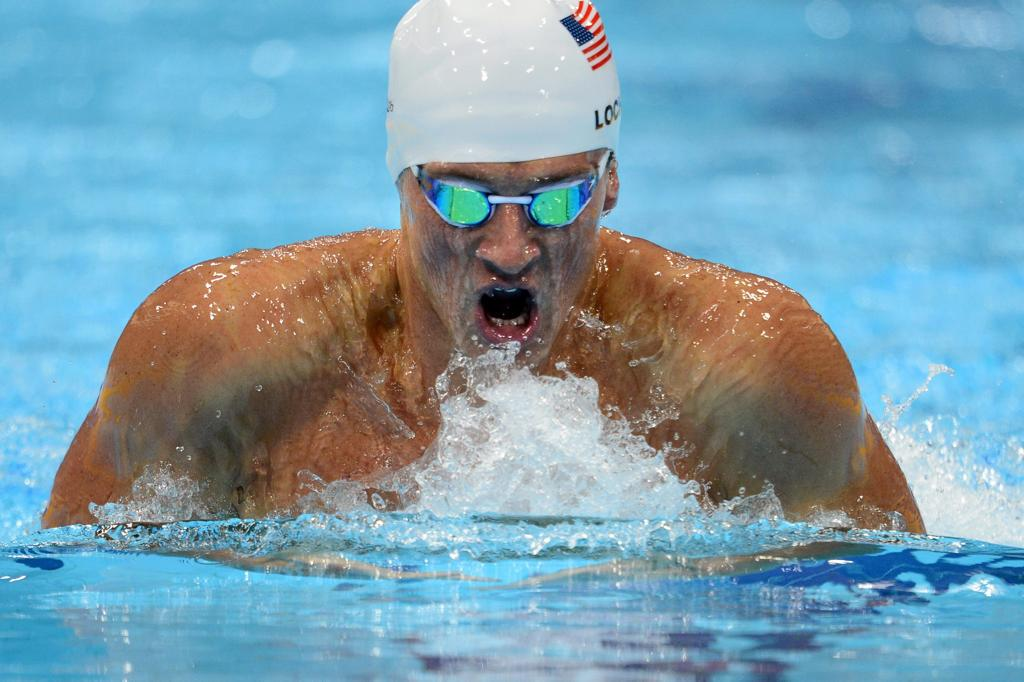face: (410, 100, 604, 368)
